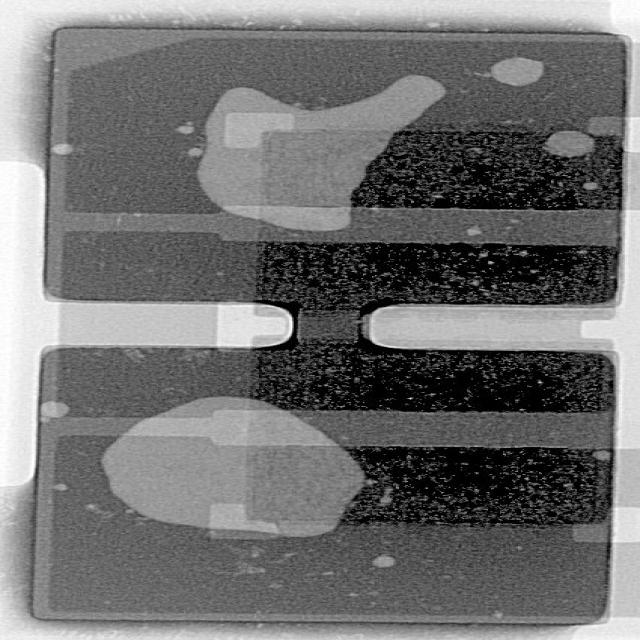component: (35, 29, 628, 624)
void: (197, 75, 446, 231), (101, 398, 363, 540), (491, 57, 544, 86), (544, 130, 595, 157), (589, 116, 625, 136), (574, 525, 608, 544), (39, 401, 69, 419), (372, 556, 396, 569), (50, 143, 72, 155), (175, 121, 194, 134), (465, 225, 483, 236), (593, 452, 611, 462), (185, 147, 203, 157), (51, 484, 68, 492), (584, 182, 599, 189)
